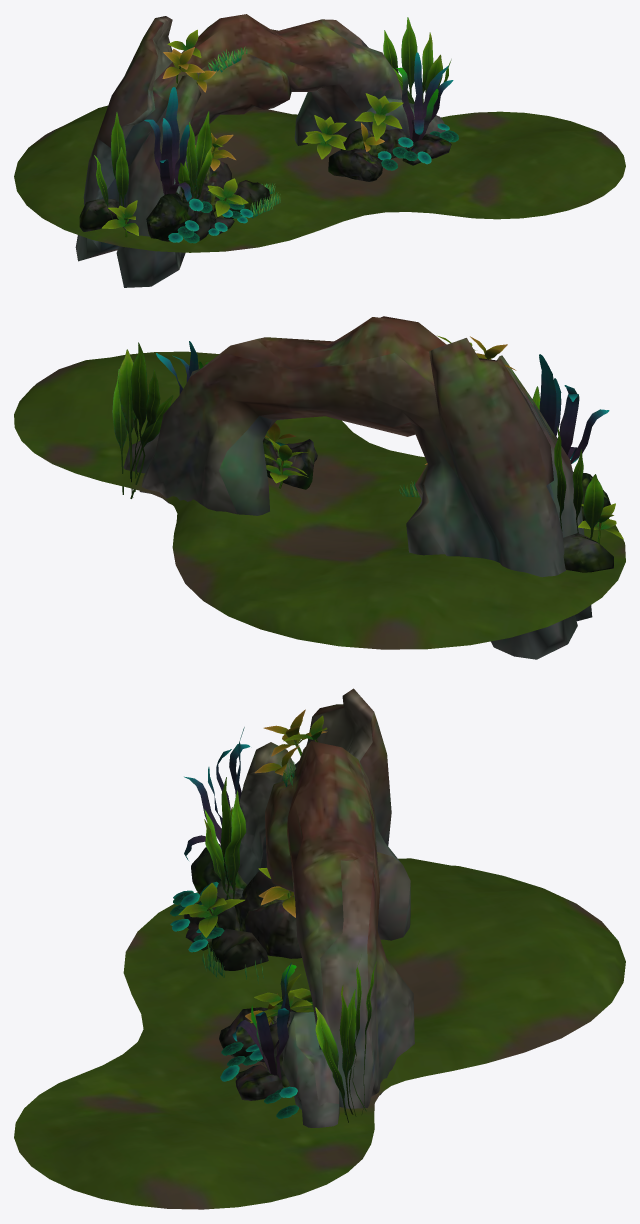
Rendered from mossy-log.glb.
The picture shows the model from 3 angles, top to bottom: view 1: azimuth 30°, elevation 25°; view 2: azimuth 150°, elevation 25°; view 3: azimuth 270°, elevation 25°; orthographic projection. The views are drawn at different scales.
Bounding box in the file's own units: 44.96 × 19.64 × 33.36.
Materials: 4 (4 with a texture image).
